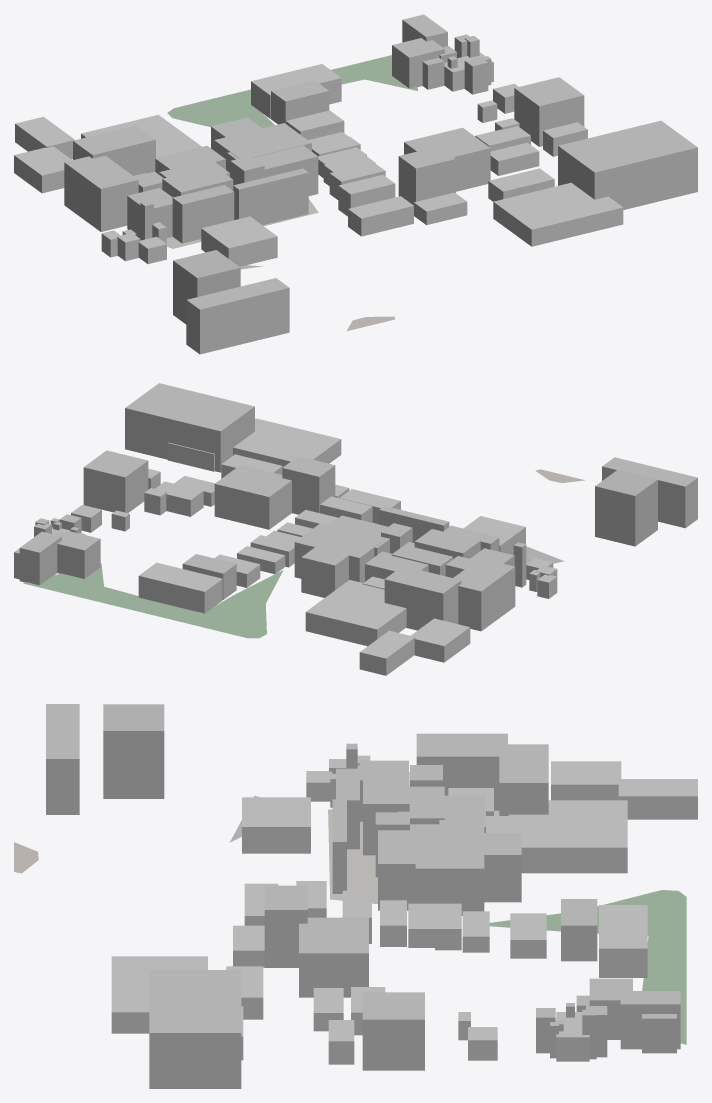
Rendered from 130_92_mid.glb.
The picture shows the model from 3 angles, top to bottom: view 1: azimuth 30°, elevation 25°; view 2: azimuth 150°, elevation 25°; view 3: azimuth 270°, elevation 25°; orthographic projection. The views are drawn at different scales.
Bounding box in the file's own units: 580 × 56.12 × 508.
